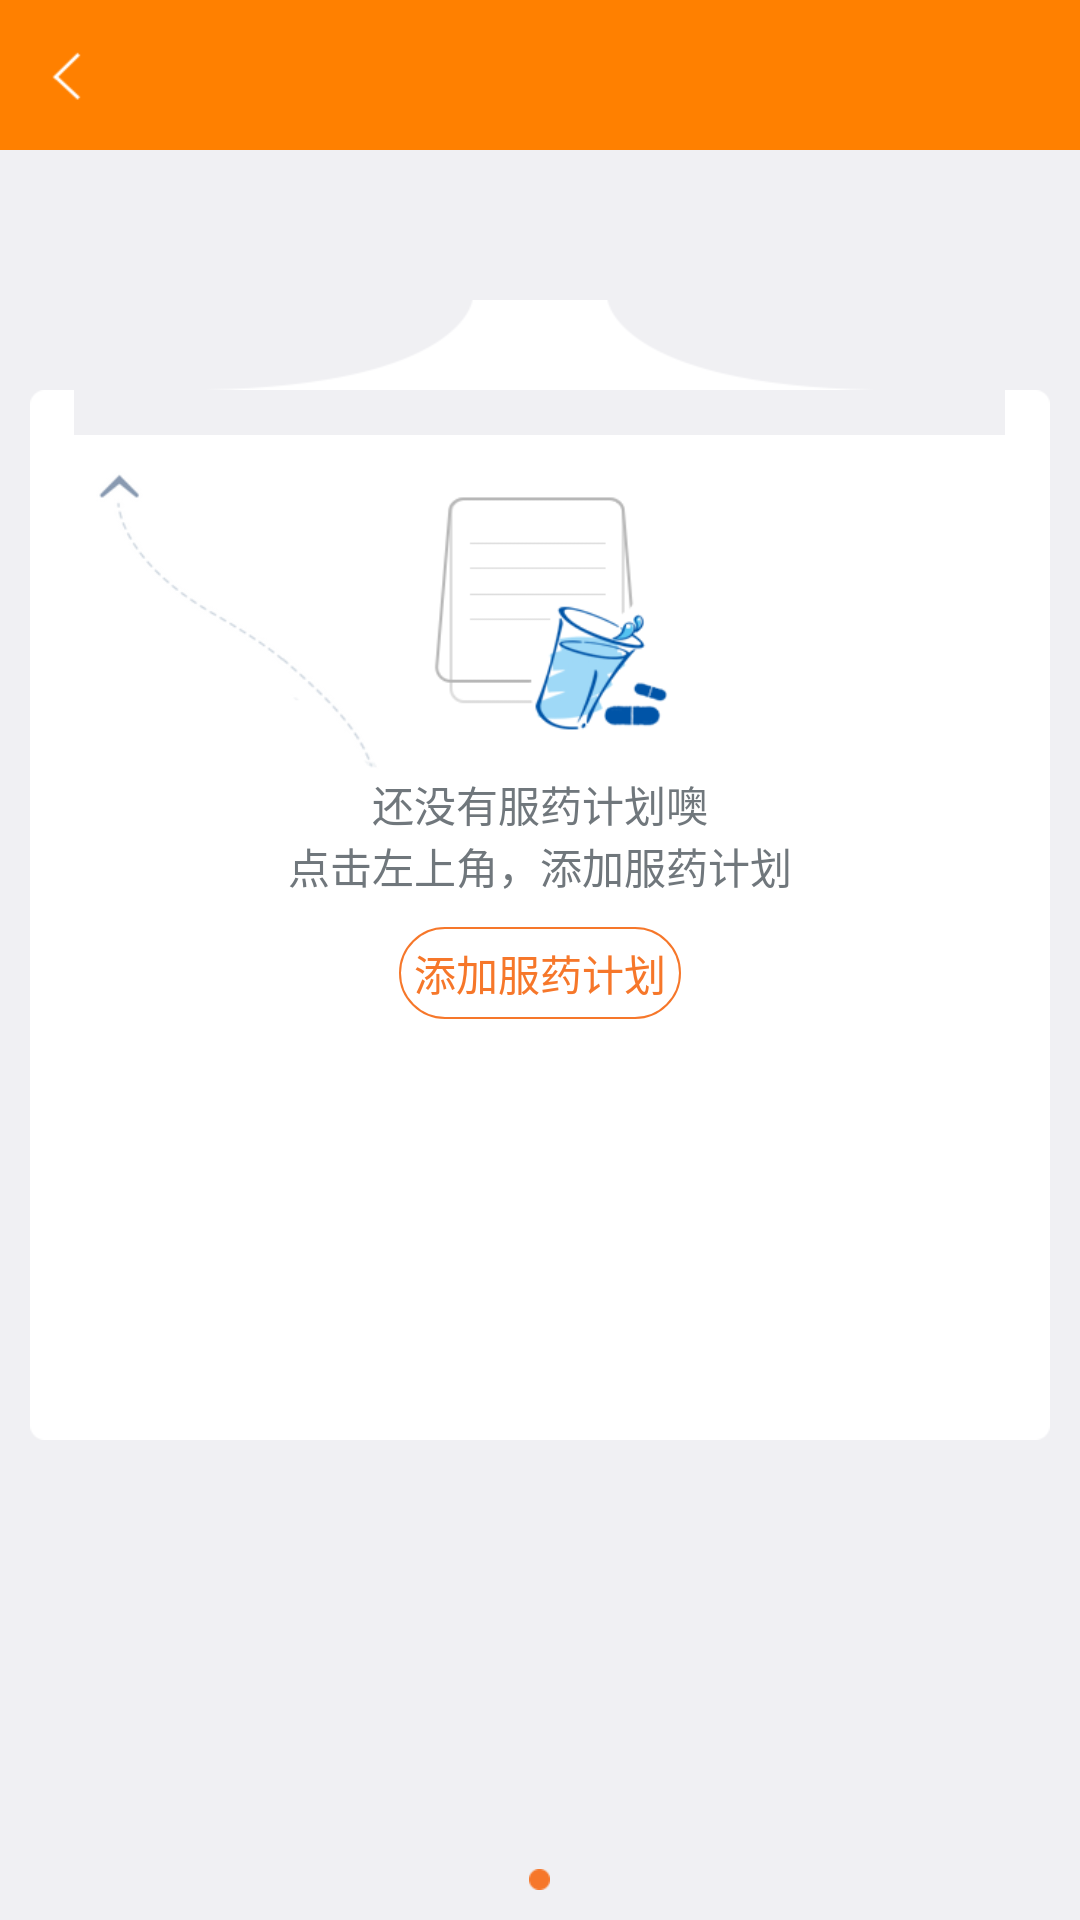

Where icons sit on this 1080w x 1920h app screen, as rect(x1, y1, x2, y2):
title back: rect(53, 52, 81, 100)
